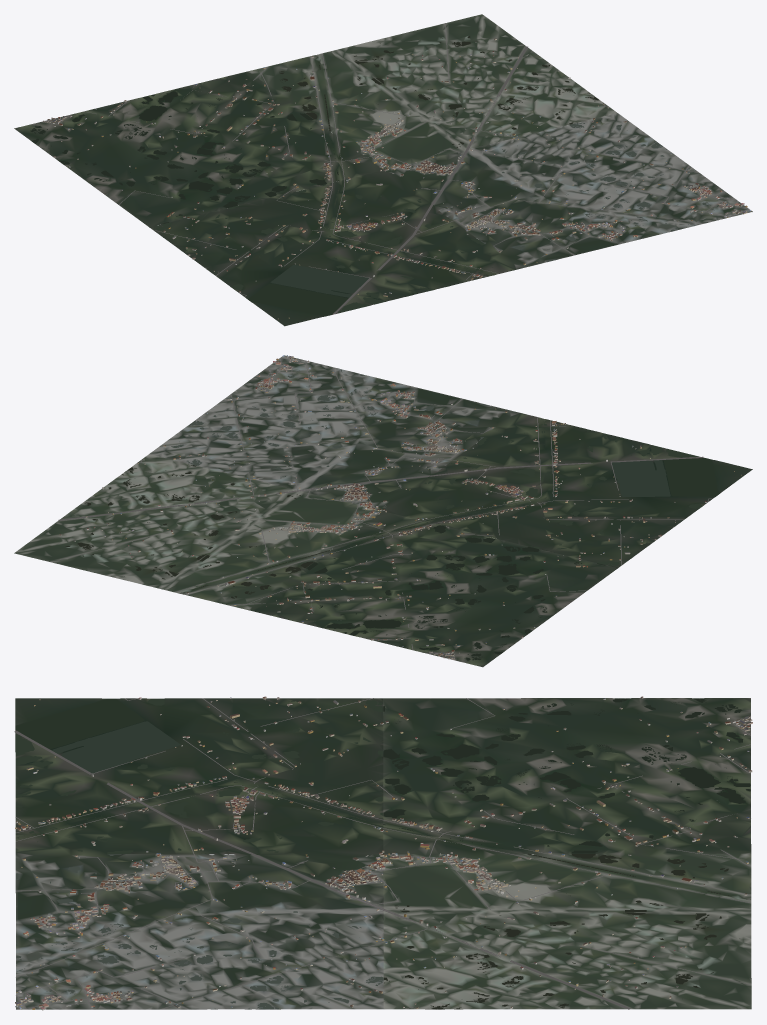
The picture shows the model from 3 angles, top to bottom: view 1: azimuth 30°, elevation 25°; view 2: azimuth 150°, elevation 25°; view 3: azimuth 270°, elevation 25°; orthographic projection. The views are drawn at different scales.
Parts seen in each view (by area): view 1: ground, water, buildings, roads; view 2: ground, water, buildings, roads; view 3: ground, water, buildings, roads.
Part boxes in pixels (left/top/right/bottom): ground: left=14, top=14, right=752, bottom=326; water: left=30, top=36, right=714, bottom=316; buildings: left=43, top=38, right=751, bottom=319; roads: left=41, top=23, right=748, bottom=314; ground: left=14, top=355, right=752, bottom=667; water: left=65, top=369, right=718, bottom=660; buildings: left=59, top=355, right=741, bottom=659; roads: left=51, top=358, right=712, bottom=660; ground: left=15, top=698, right=751, bottom=1009; water: left=15, top=698, right=750, bottom=1009; buildings: left=15, top=696, right=752, bottom=1010; roads: left=14, top=698, right=751, bottom=1009.
Size of the model in its own units: 2819 by 15.49 by 2817.
